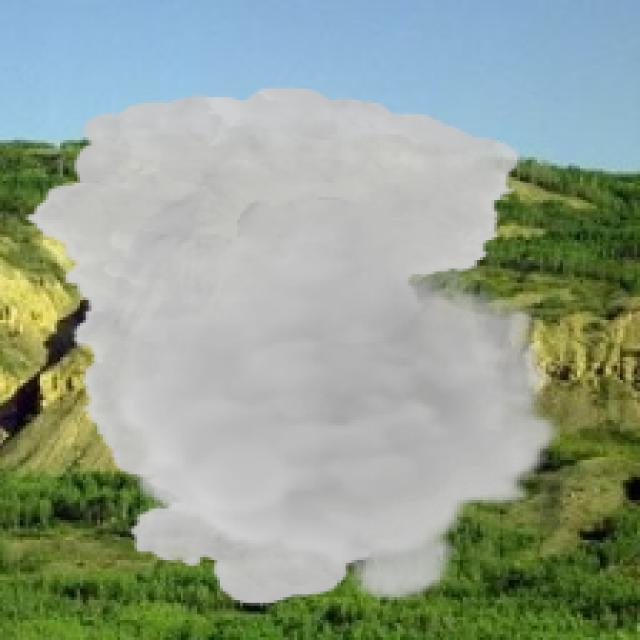smoke: (23, 85, 563, 606)
